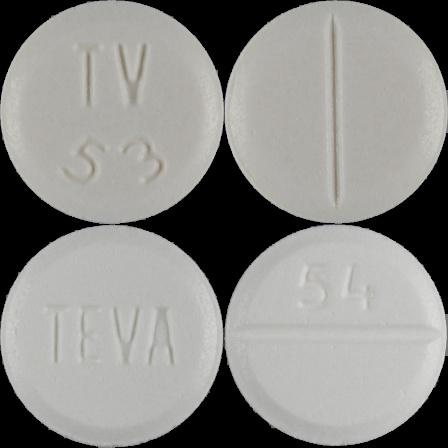68151-1437: (0, 0, 224, 224)
